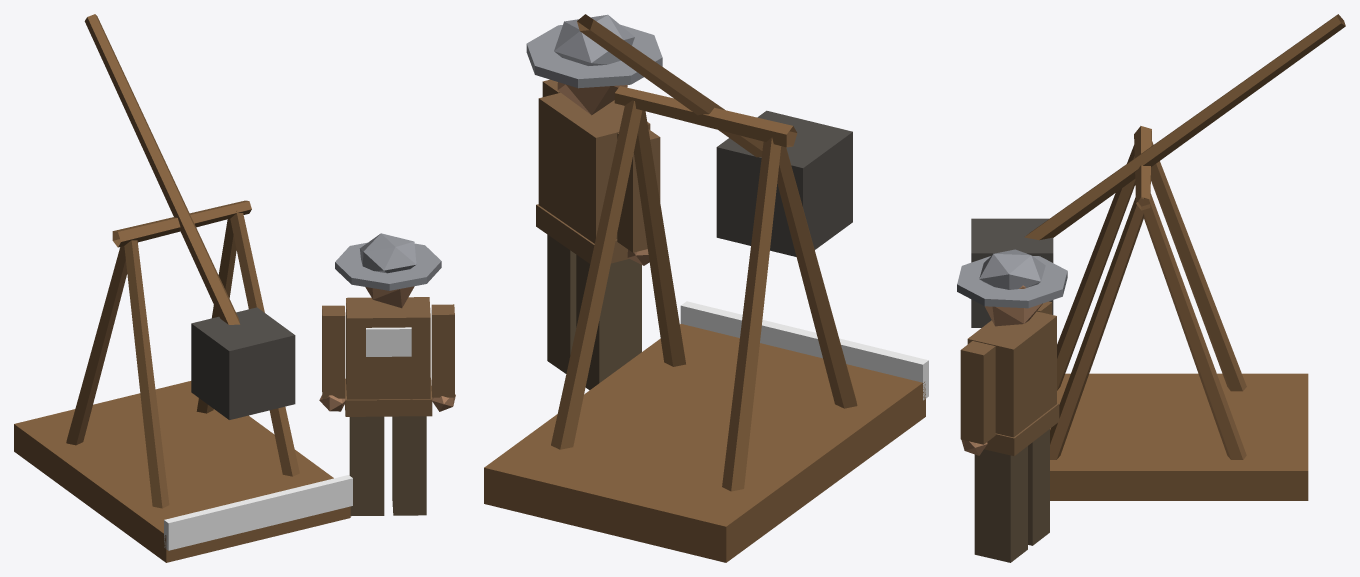
Rendered from Trebuchet.glb.
3 views of the same model, side by side, from view 1: azimuth 30°, elevation 25°; view 2: azimuth 150°, elevation 25°; view 3: azimuth 270°, elevation 25° (orthographic). The views are drawn at different scales.
Visible parts, largest first — view 1: Units_Trebuchet; view 2: Units_Trebuchet; view 3: Units_Trebuchet.
Part boxes in pixels (x1=…): Units_Trebuchet: x1=14, y1=14, x2=455, y2=562; Units_Trebuchet: x1=484, y1=14, x2=928, y2=562; Units_Trebuchet: x1=957, y1=14, x2=1345, y2=562.
Bounding box in the file's own units: 0.2201 × 0.3036 × 0.2364.
